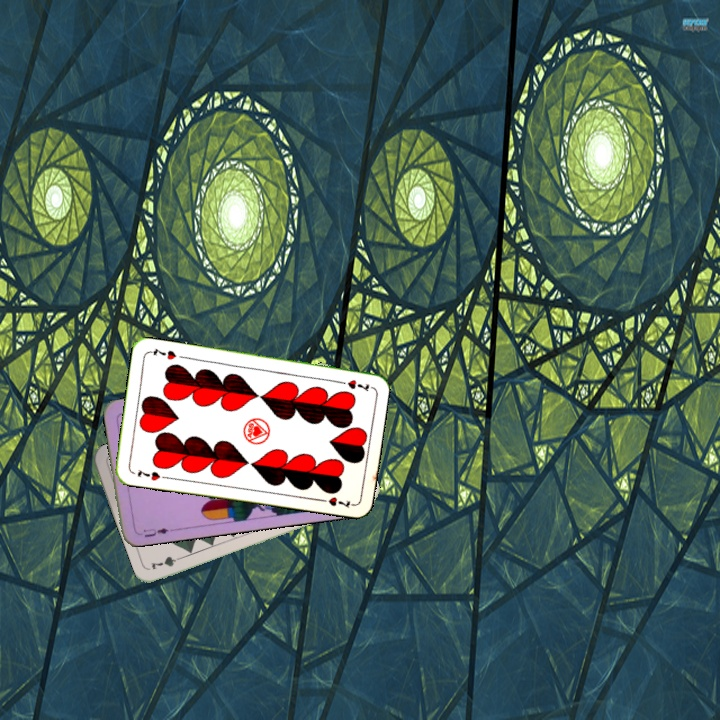EU: (134, 524, 171, 540)
G7: (147, 552, 187, 572)
H7: (133, 465, 170, 483), (333, 376, 371, 393)
